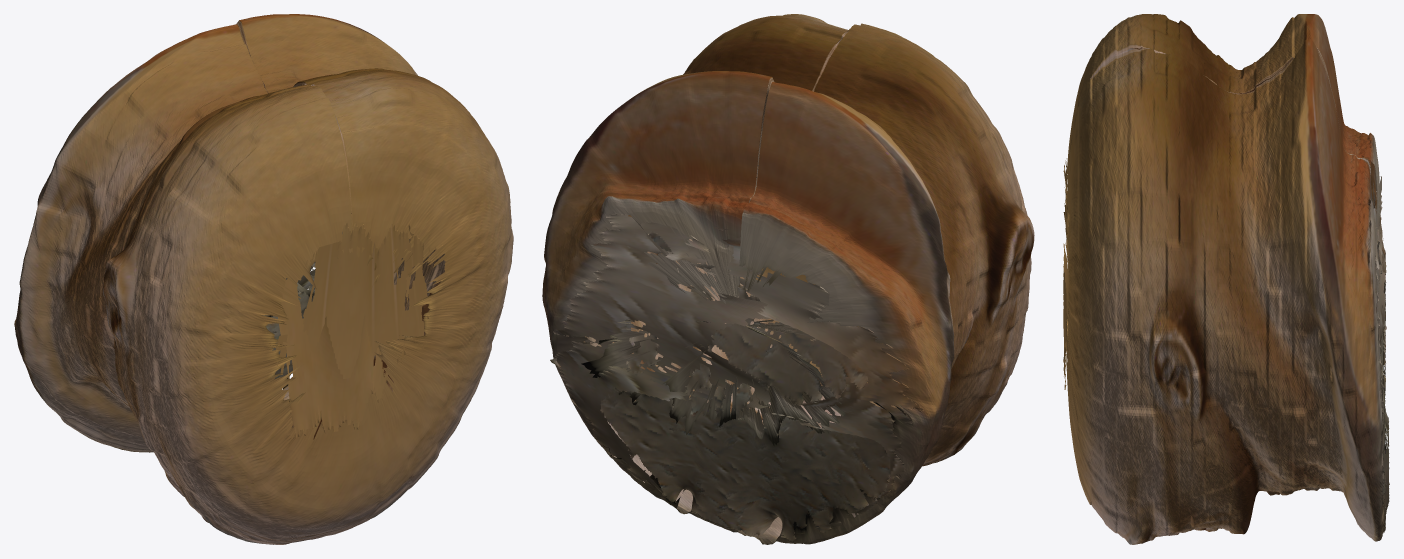
The model's file is mesh_inpaint.glb.
3 renders of one model, left to right at view 1: azimuth 30°, elevation 25°; view 2: azimuth 150°, elevation 25°; view 3: azimuth 270°, elevation 25°, orthographic. The views are drawn at different scales.
Visible parts, largest first — view 1: ipn, fill; view 2: ipn, fill; view 3: ipn, fill.
Boxes of the visible parts, bbox=[...] form: ipn: bbox=[14, 14, 513, 544]; fill: bbox=[266, 222, 442, 437]; ipn: bbox=[542, 14, 1034, 544]; fill: bbox=[553, 213, 923, 541]; ipn: bbox=[1066, 14, 1385, 544]; fill: bbox=[1063, 158, 1389, 533].
Size of the model in its own units: 1.93 by 2 by 1.22.
2 materials, 1 textured.
